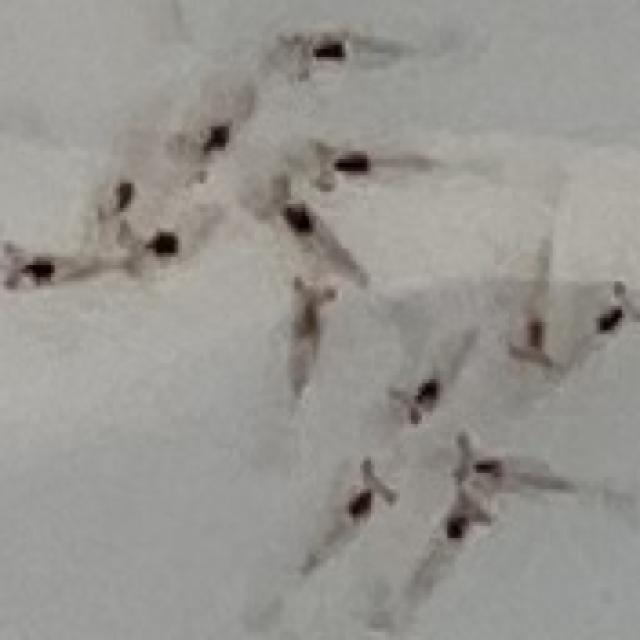shrimp-seed: (284, 272, 340, 360), (252, 172, 320, 242), (342, 456, 404, 531), (431, 485, 496, 546), (312, 137, 375, 198), (451, 428, 512, 491), (386, 369, 446, 432), (172, 120, 231, 184), (282, 31, 348, 88), (118, 221, 186, 274), (4, 238, 62, 292), (505, 314, 557, 374), (590, 278, 640, 336), (90, 182, 139, 237)
